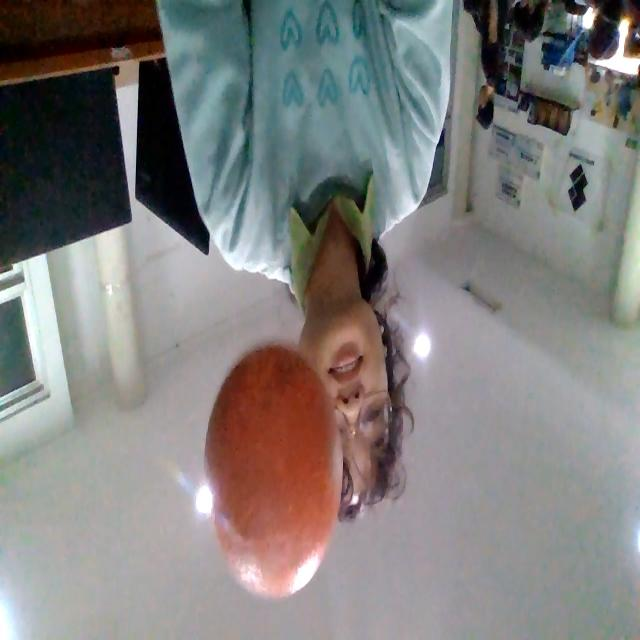ball: (203, 345, 343, 601)
